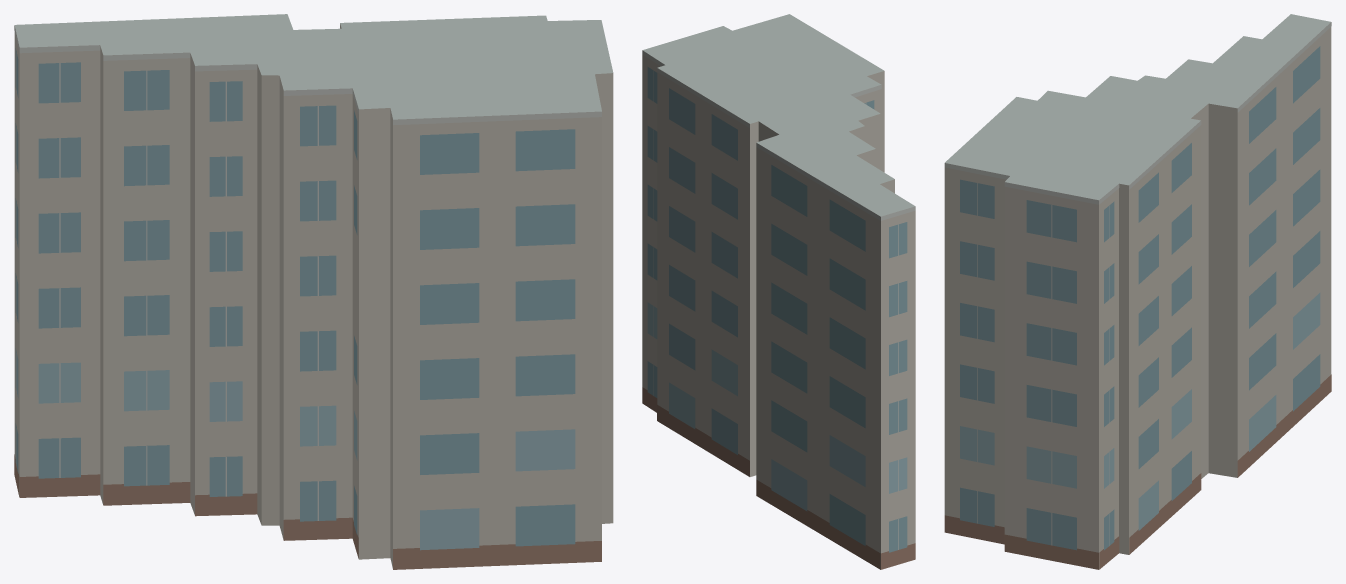
The model's file is survey-upis-32670771.glb.
3 views of the same model, side by side, from view 1: azimuth 30°, elevation 25°; view 2: azimuth 150°, elevation 25°; view 3: azimuth 270°, elevation 25° (orthographic). The views are drawn at different scales.
Visible parts, largest first — view 1: survey-upis-32670771.tmp; view 2: survey-upis-32670771.tmp; view 3: survey-upis-32670771.tmp.
Part boxes in pixels (<box>): survey-upis-32670771.tmp: <box>14,14,613,569</box>; survey-upis-32670771.tmp: <box>642,14,915,569</box>; survey-upis-32670771.tmp: <box>944,14,1331,569</box>.
Size of the model in its own units: 21.52 by 19.9 by 18.89.
